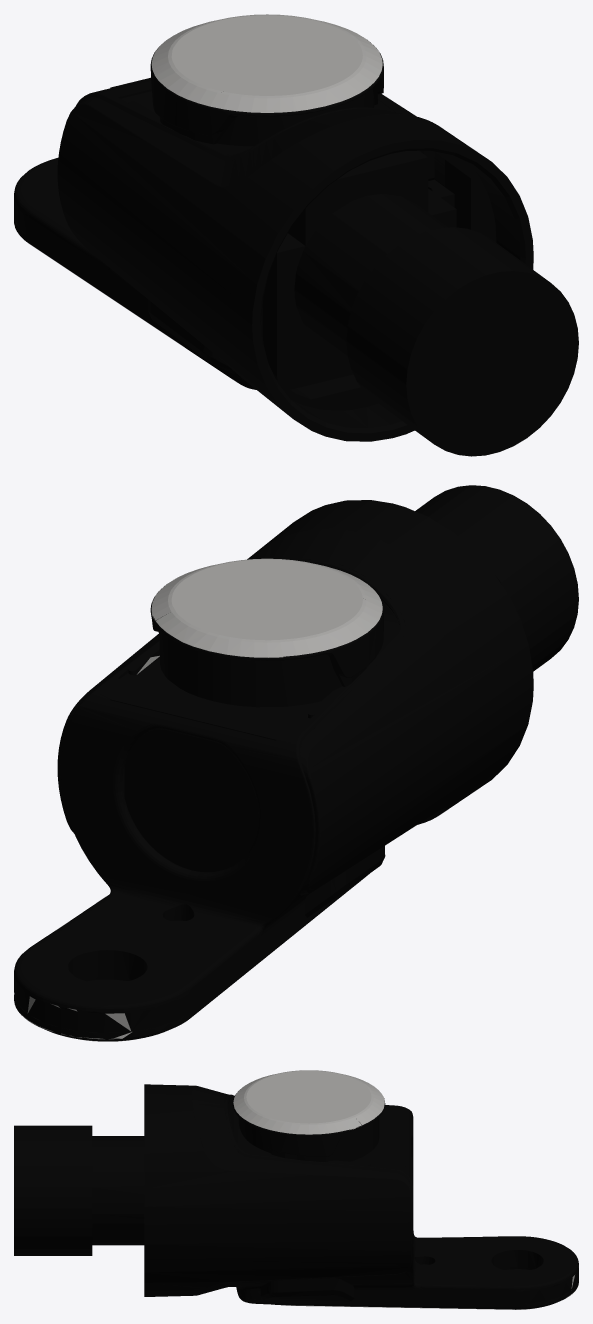
Rendered from left_arm_link5.obj.
3 views of the same model, one above another, from view 1: azimuth 30°, elevation 25°; view 2: azimuth 150°, elevation 25°; view 3: azimuth 270°, elevation 25° (orthographic). The views are drawn at different scales.
Visible parts, largest first — view 1: left_arm_link5; view 2: left_arm_link5; view 3: left_arm_link5.
Boxes of the visible parts, x1,y1,x2,y2 form: left_arm_link5: (14, 14, 578, 456); left_arm_link5: (14, 485, 578, 1041); left_arm_link5: (14, 1070, 578, 1309).
Bounding box in the file's own units: 0.0816 × 0.0826 × 0.2166.
1 material, 1 textured.
